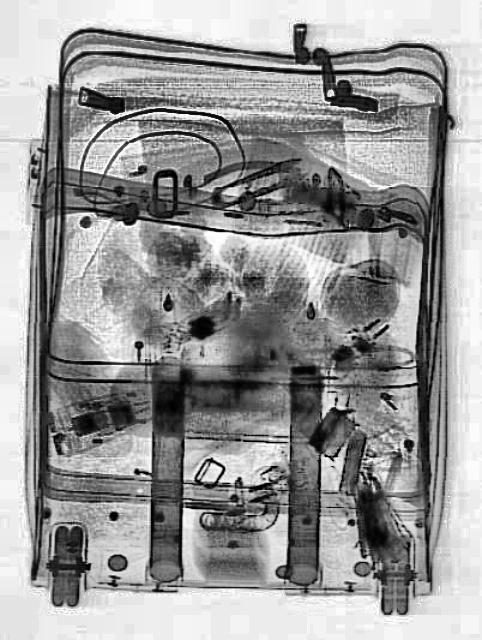Scissors: (206, 150, 306, 216)
